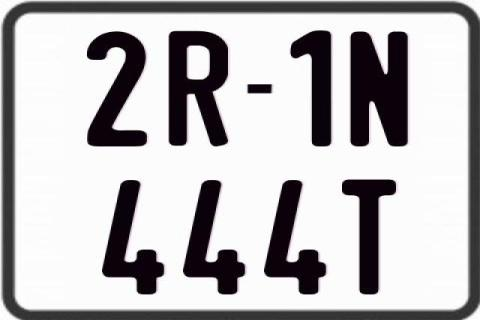0: (180, 180, 247, 298), (263, 180, 330, 298), (87, 29, 153, 147), (102, 180, 164, 296), (290, 30, 337, 146)
N: (349, 29, 408, 144)
R: (168, 29, 228, 149)
T: (341, 178, 400, 294)
